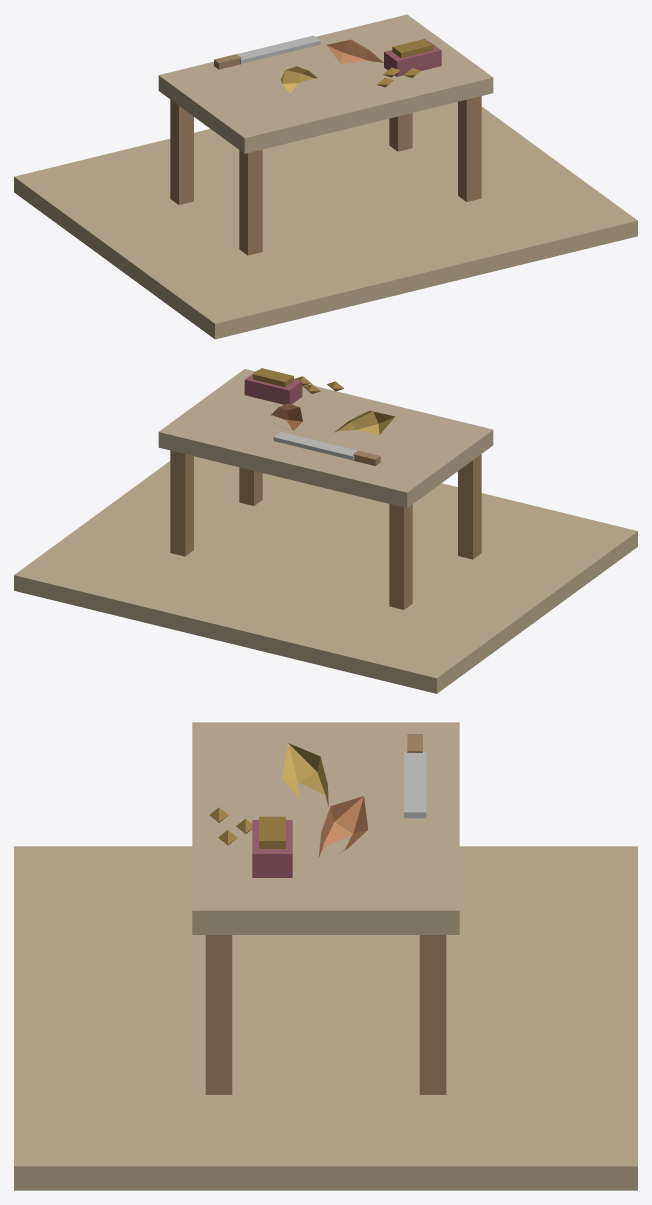
The model's file is cacao_estacion_01_quiebre.glb.
3 renders of one model, top to bottom at view 1: azimuth 30°, elevation 25°; view 2: azimuth 150°, elevation 25°; view 3: azimuth 270°, elevation 25°, orthographic. The views are drawn at different scales.
Visible parts, largest first — view 1: model; view 2: model; view 3: model.
Boxes of the visible parts, left/top/right/bottom form: model: left=14, top=14, right=637, bottom=339; model: left=14, top=368, right=637, bottom=693; model: left=14, top=722, right=637, bottom=1190.
Size of the model in its own units: 1.7 by 0.63 by 1.4.
